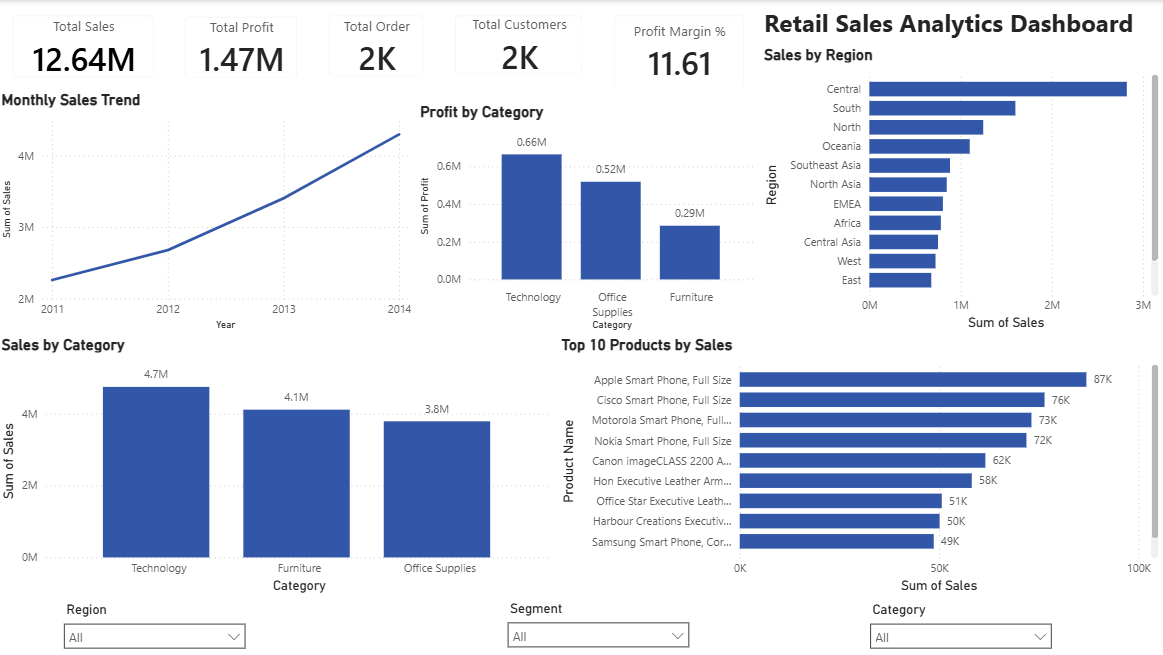

Layout of this report page (visuals, bound fields, positions):
{"tool":"powerbi","page":{"name":"Page 1","canvas":[1280,720],"ordinal":0},"visuals":[{"type":"cardVisual","fields":{"Data":["Global_Superstore2.Total Profit"]},"box":[189.4,1.4,157.8,101.5],"z":0},{"type":"cardVisual","fields":{"Data":["Global_Superstore2.Total Sales"]},"box":[0,0,189.4,102.9],"z":1000},{"type":"cardVisual","fields":{"Data":["Global_Superstore2.Total Order"]},"box":[347.2,0,138.6,101.5],"z":2000},{"type":"cardVisual","fields":{"Data":["Global_Superstore2.Total Customers"]},"box":[485.8,0,174.3,98.8],"z":3000},{"type":"cardVisual","fields":{"Data":["Global_Superstore2.Profit Margin %"]},"box":[660,0,177,112.5],"z":4000},{"type":"lineChart","title":"Monthly Sales Trend","fields":{"Category":["Global_Superstore2.Order Date.Variation.Date Hierarchy.Year","Global_Superstore2.Order Date.Variation.Date Hierarchy.Month"],"Y":["Sum(Global_Superstore2.Sales)"]},"box":[0,98.8,459.7,269],"z":5000},{"type":"clusteredBarChart","title":"Sales by Region","fields":{"Category":["Global_Superstore2.Region"],"Y":["Sum(Global_Superstore2.Sales)"]},"box":[837.1,49.4,443.2,318.4],"z":6000},{"type":"clusteredColumnChart","title":"Sales by Category","fields":{"Category":["Global_Superstore2.Category"],"Y":["Sum(Global_Superstore2.Sales)"]},"box":[0,367.8,614.8,288.2],"z":7000},{"type":"clusteredBarChart","title":"Top 10 Products by Sales","fields":{"Category":["Global_Superstore2.Product Name"],"Y":["Sum(Global_Superstore2.Sales)"]},"box":[614.8,367.8,665.5,288.2],"z":8000},{"type":"clusteredColumnChart","title":"Profit by Category","fields":{"Category":["Global_Superstore2.Category"],"Y":["Sum(Global_Superstore2.Profit)"]},"box":[459.7,112.5,377.4,255.2],"z":9000},{"type":"slicer","fields":{"Values":["Global_Superstore2.Region"]},"box":[63.1,655.9,219.6,64.5],"z":9001},{"type":"slicer","fields":{"Values":["Global_Superstore2.Segment"]},"box":[550.3,654.5,219.6,64.5],"z":9002},{"type":"slicer","fields":{"Values":["Global_Superstore2.Category"]},"box":[948.2,655.9,219.6,64.5],"z":9003},{"type":"textbox","box":[837.1,1.4,443.2,48],"z":9004}]}

Visuals, with their boxes in screenshot pixels (x1, y1, x2, y2), scaled from the page's 1280x720 canvas onto the 1163x655 screenshot:
cardVisual - Global_Superstore2.Total Profit: <bbox>172, 1, 315, 94</bbox>
cardVisual - Global_Superstore2.Total Sales: <bbox>0, 0, 172, 94</bbox>
cardVisual - Global_Superstore2.Total Order: <bbox>315, 0, 441, 92</bbox>
cardVisual - Global_Superstore2.Total Customers: <bbox>441, 0, 600, 90</bbox>
cardVisual - Global_Superstore2.Profit Margin %: <bbox>600, 0, 760, 102</bbox>
"Monthly Sales Trend" lineChart: <bbox>0, 90, 418, 335</bbox>
"Sales by Region" clusteredBarChart: <bbox>761, 45, 1162, 335</bbox>
"Sales by Category" clusteredColumnChart: <bbox>0, 335, 559, 597</bbox>
"Top 10 Products by Sales" clusteredBarChart: <bbox>559, 335, 1162, 597</bbox>
"Profit by Category" clusteredColumnChart: <bbox>418, 102, 761, 335</bbox>
slicer - Global_Superstore2.Region: <bbox>57, 597, 257, 654</bbox>
slicer - Global_Superstore2.Segment: <bbox>500, 595, 700, 654</bbox>
slicer - Global_Superstore2.Category: <bbox>862, 597, 1061, 654</bbox>
textbox: <bbox>761, 1, 1162, 45</bbox>
